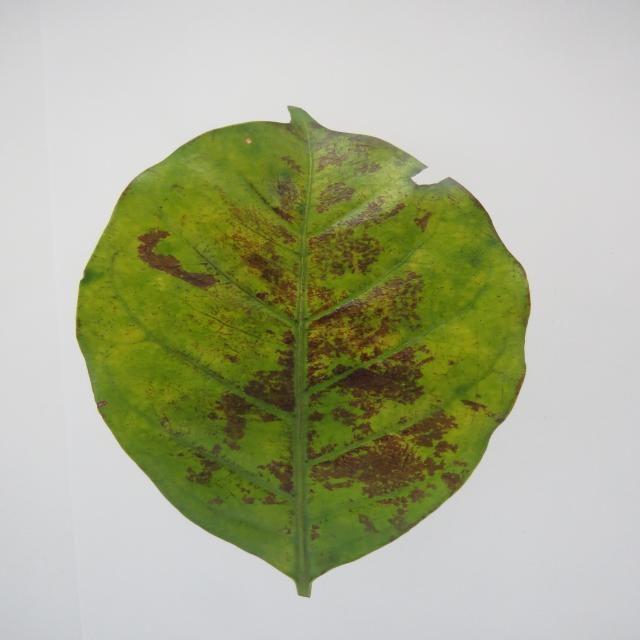DeficienciaNutricional-Potasio: (77, 108, 528, 595)
